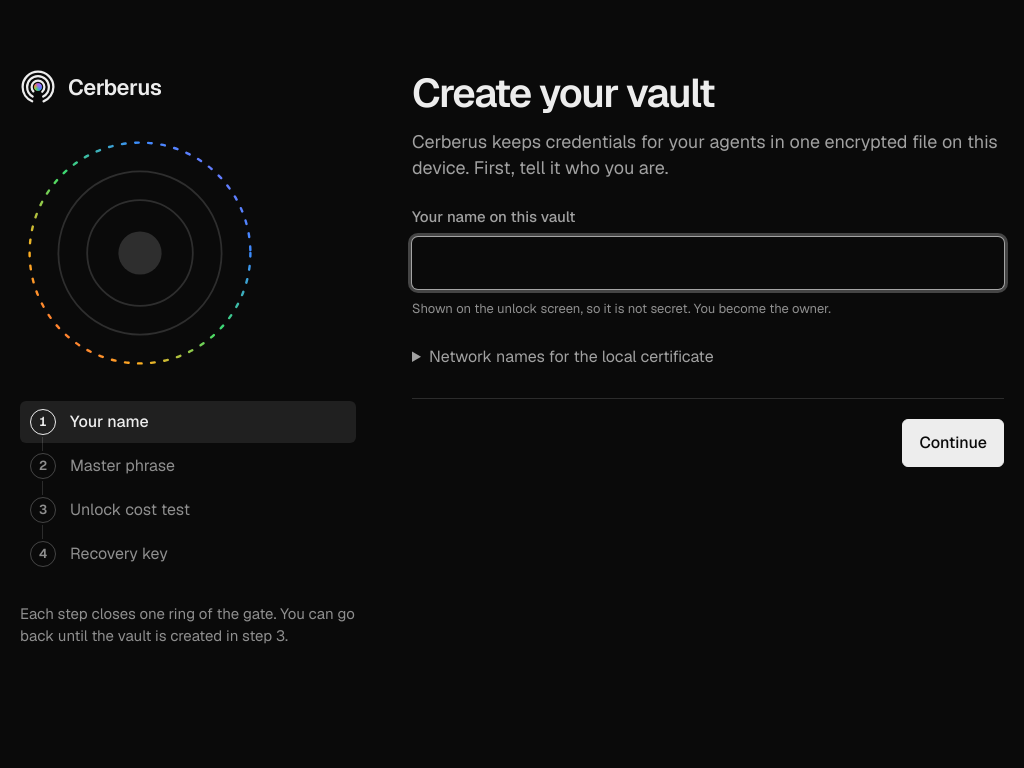
Scenario: create vault › generates a word phrase and fills both fields
This screenshot has width=1024, height=768.
Later steps or results of the test are not shown.
Type "Ana Ruiz" into the field labelled "Your name on this vault" at point(708, 263), box [412,237,1004,289]
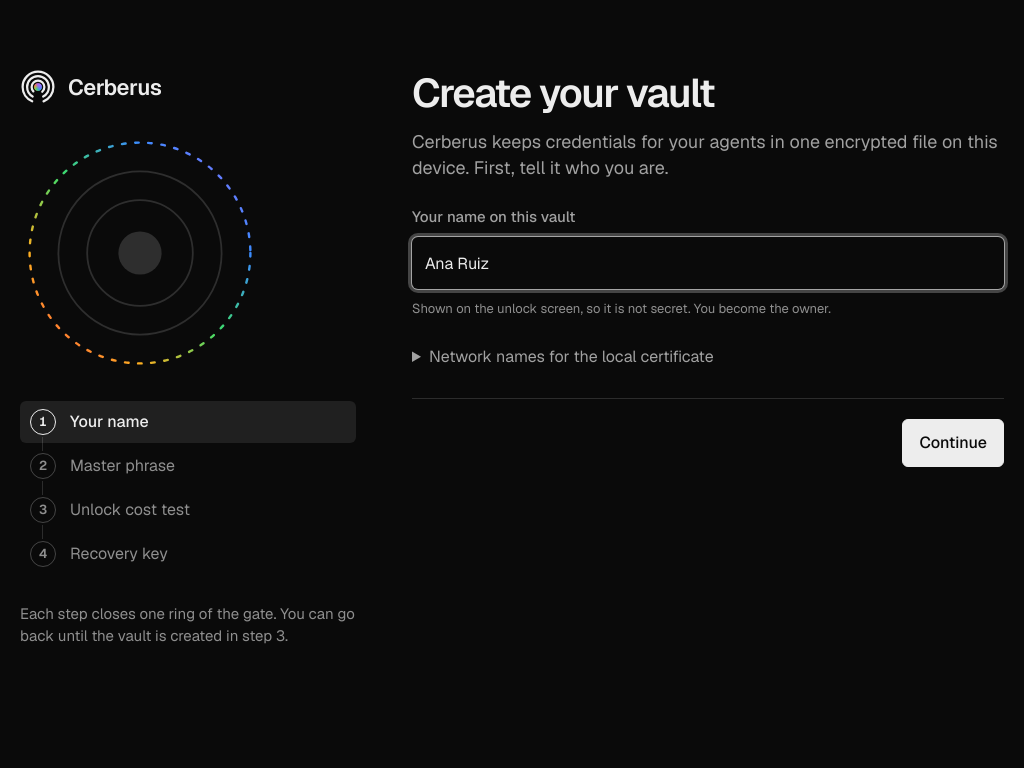
Click the button "Continue" at point(953, 443), box [902,419,1004,467]
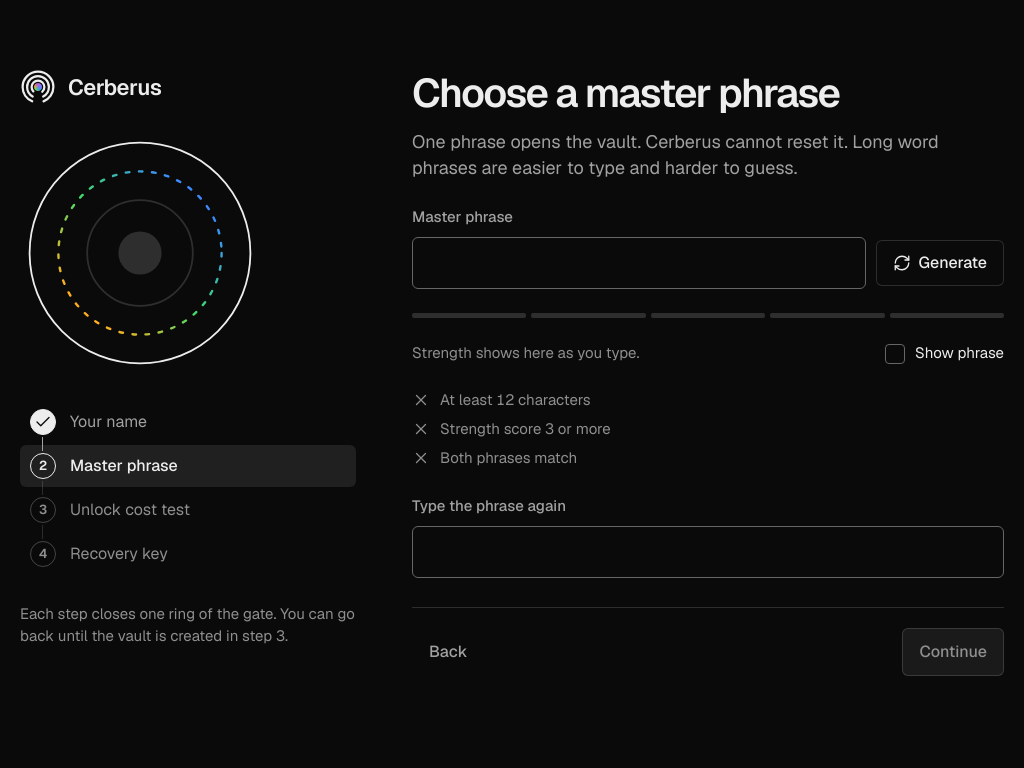
Expected: the heading "Choose a master phrase" is shown, [412,67,840,119]
Click the button "Generate" at point(940, 263), box [876,240,1004,286]
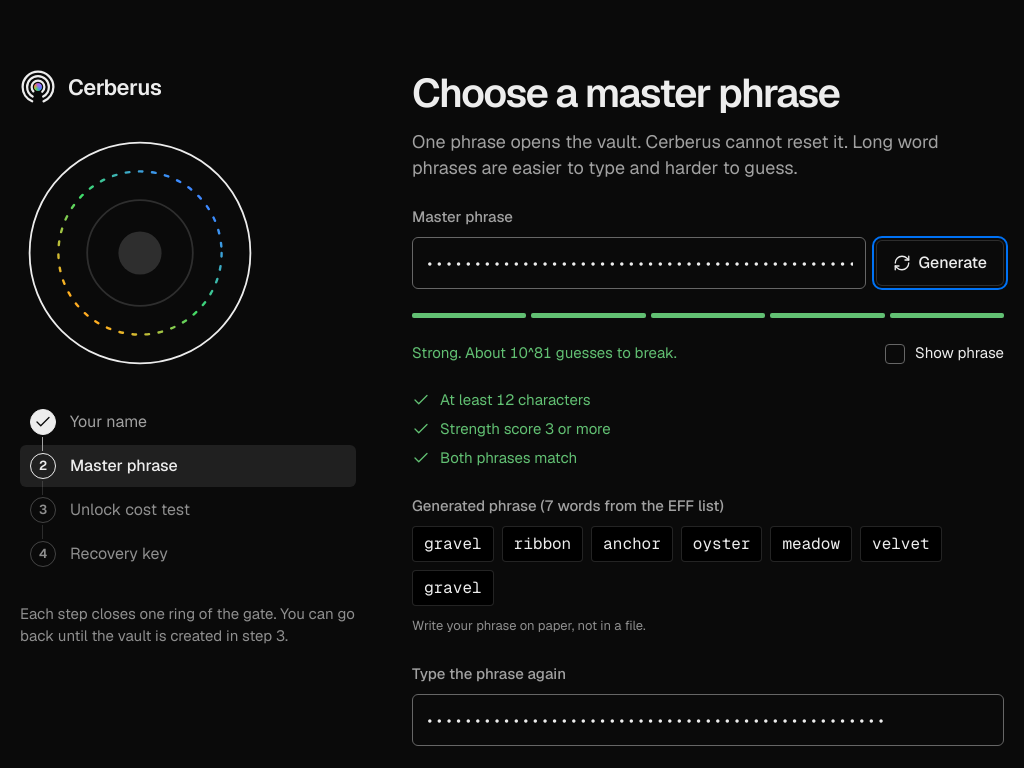
Expected: the text "Generated phrase (7 words from the EFF list)" is shown, [412,496,724,515]
